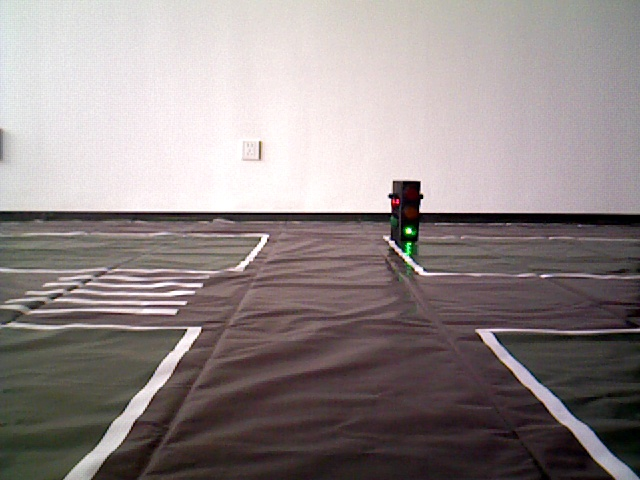green: (391, 181, 418, 243)
